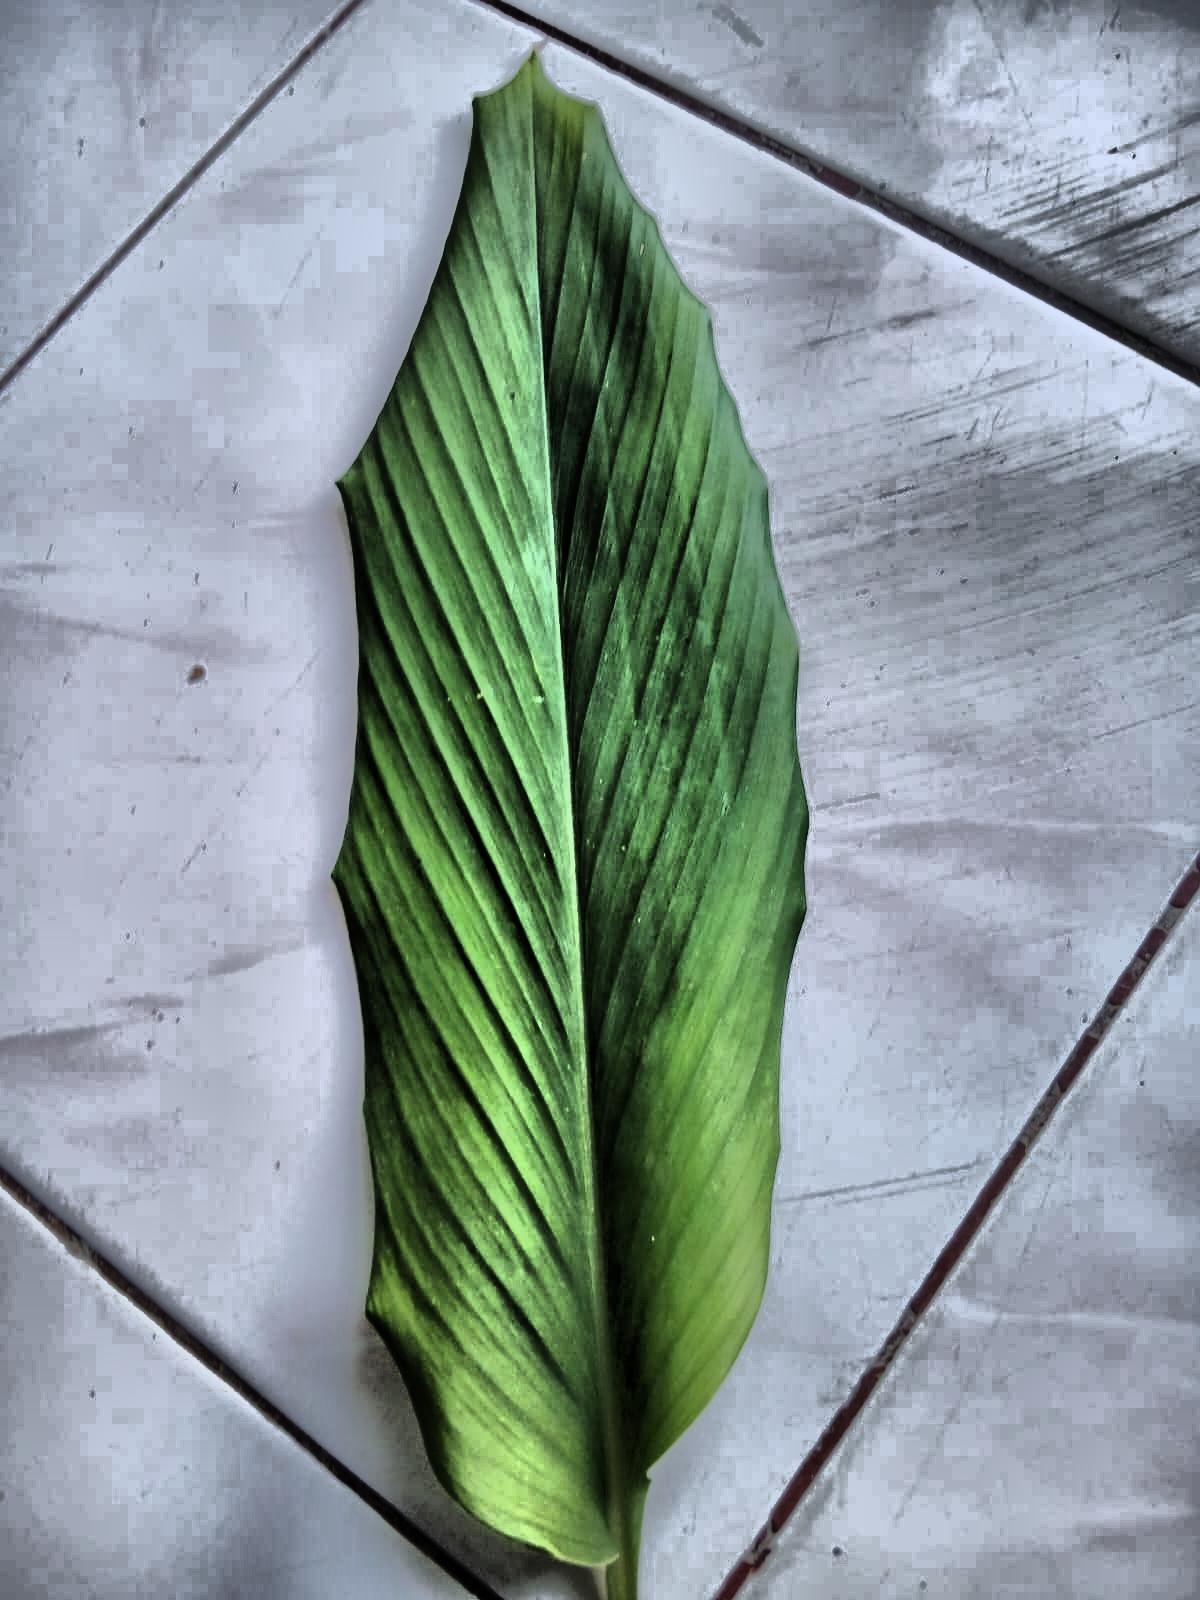daun kunyit: (332, 57, 807, 1599)
